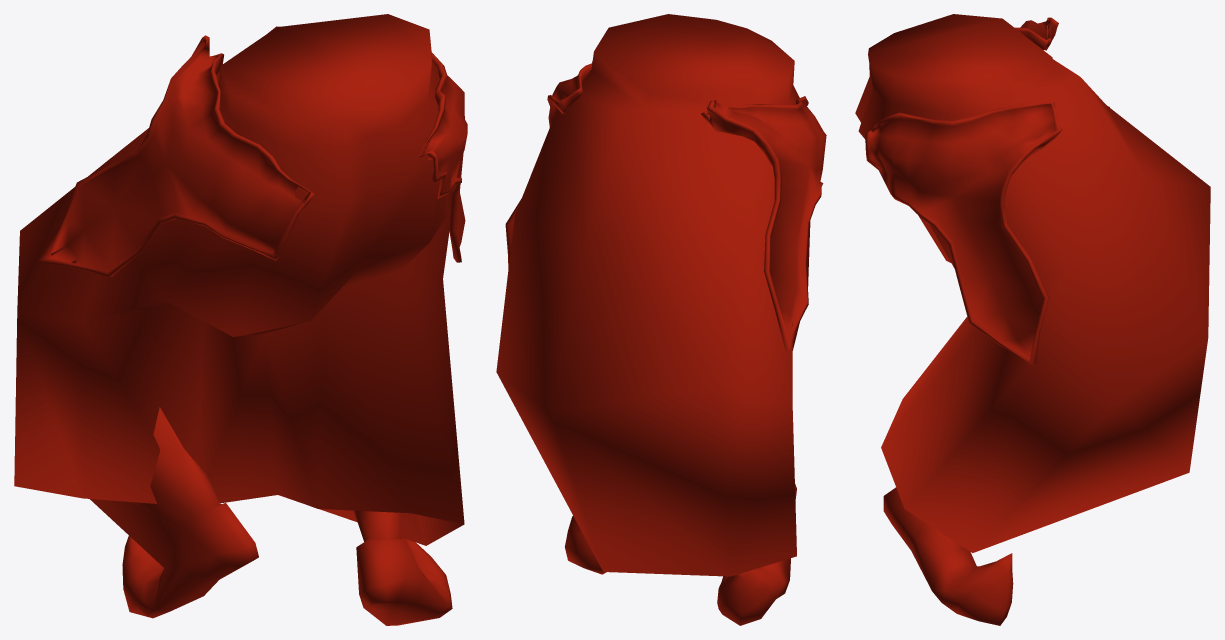
The model's file is bot_000053.obj.
3 renders of one model, left to right at view 1: azimuth 30°, elevation 25°; view 2: azimuth 150°, elevation 25°; view 3: azimuth 270°, elevation 25°, orthographic. The views are drawn at different scales.
Parts seen in each view (by area): view 1: LowPoly_Warlock.004_Plane.004; view 2: LowPoly_Warlock.004_Plane.004; view 3: LowPoly_Warlock.004_Plane.004.
Boxes of the visible parts, x1=… form: LowPoly_Warlock.004_Plane.004: x1=14, y1=14, x2=467, y2=625; LowPoly_Warlock.004_Plane.004: x1=496, y1=14, x2=826, y2=625; LowPoly_Warlock.004_Plane.004: x1=855, y1=14, x2=1210, y2=625.
Bounding box in the file's own units: 0.6862 × 1.03 × 0.6184.
